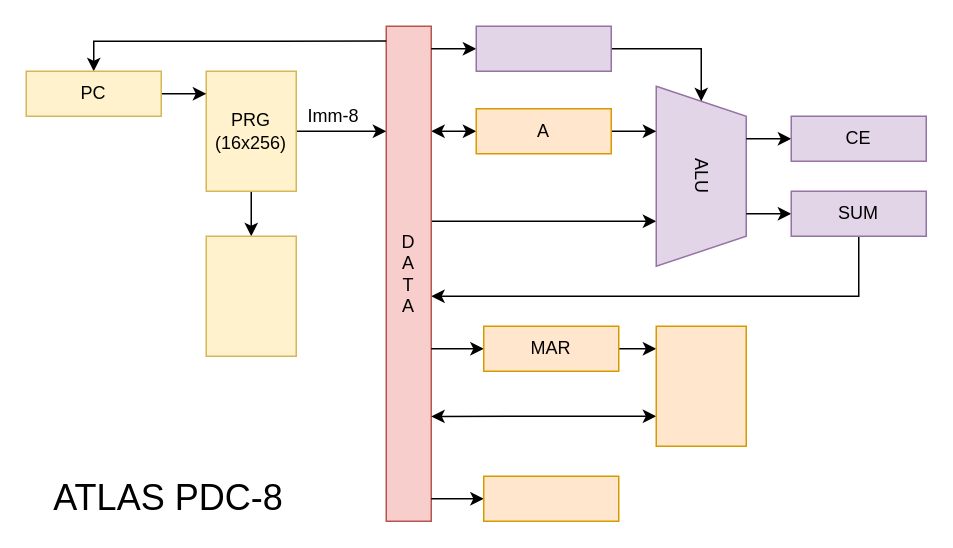
Image size: 953x548. Some labels were removed from this diagram. The centre of each missing label's shape, as x and y in pixels:
CTRL: the point at 250,295
DISP: the point at 550,498
MEM (8x128): the point at 700,385
OP: the point at 543,48
